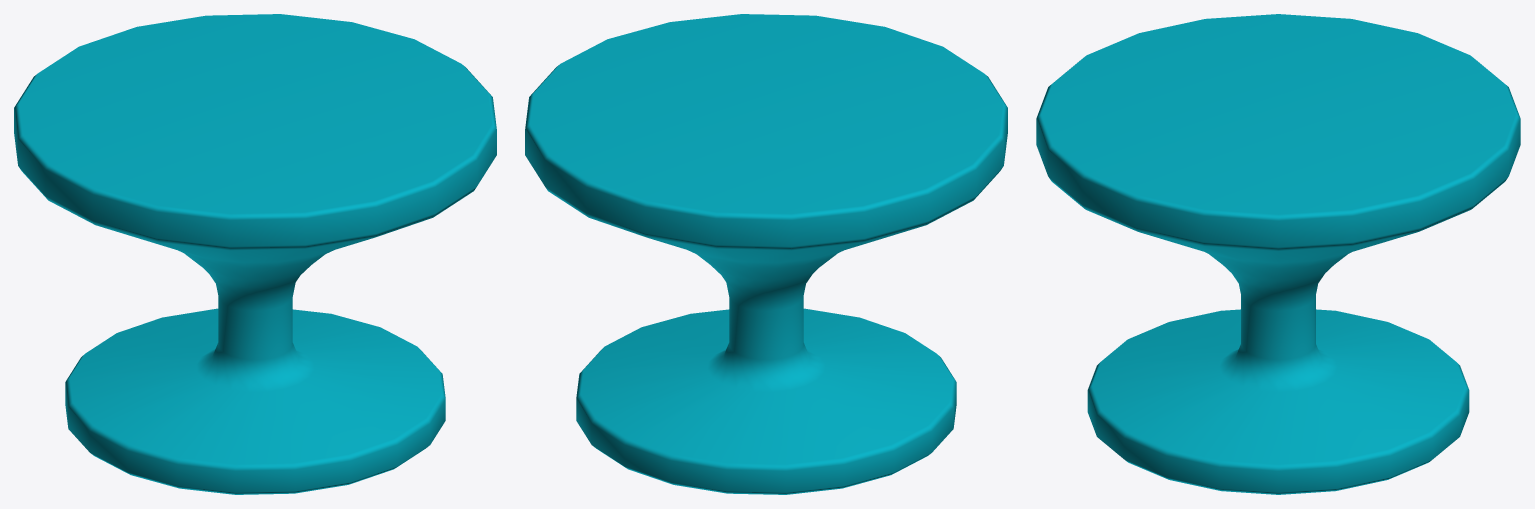
The model's file is Store_5_Cake_Plate_1.glb.
The picture shows the model from 3 angles, left to right: view 1: azimuth 30°, elevation 25°; view 2: azimuth 150°, elevation 25°; view 3: azimuth 270°, elevation 25°; orthographic projection.
Visible parts, largest first — view 1: Store_5_Cake_Plate_1; view 2: Store_5_Cake_Plate_1; view 3: Store_5_Cake_Plate_1.
Boxes of the visible parts, bbox=[...] form: Store_5_Cake_Plate_1: bbox=[14, 14, 496, 494]; Store_5_Cake_Plate_1: bbox=[525, 14, 1007, 494]; Store_5_Cake_Plate_1: bbox=[1036, 14, 1520, 494].
Size of the model in its own units: 0.3465 by 0.2385 by 0.3465.
Materials: 1 (1 with a texture image).
